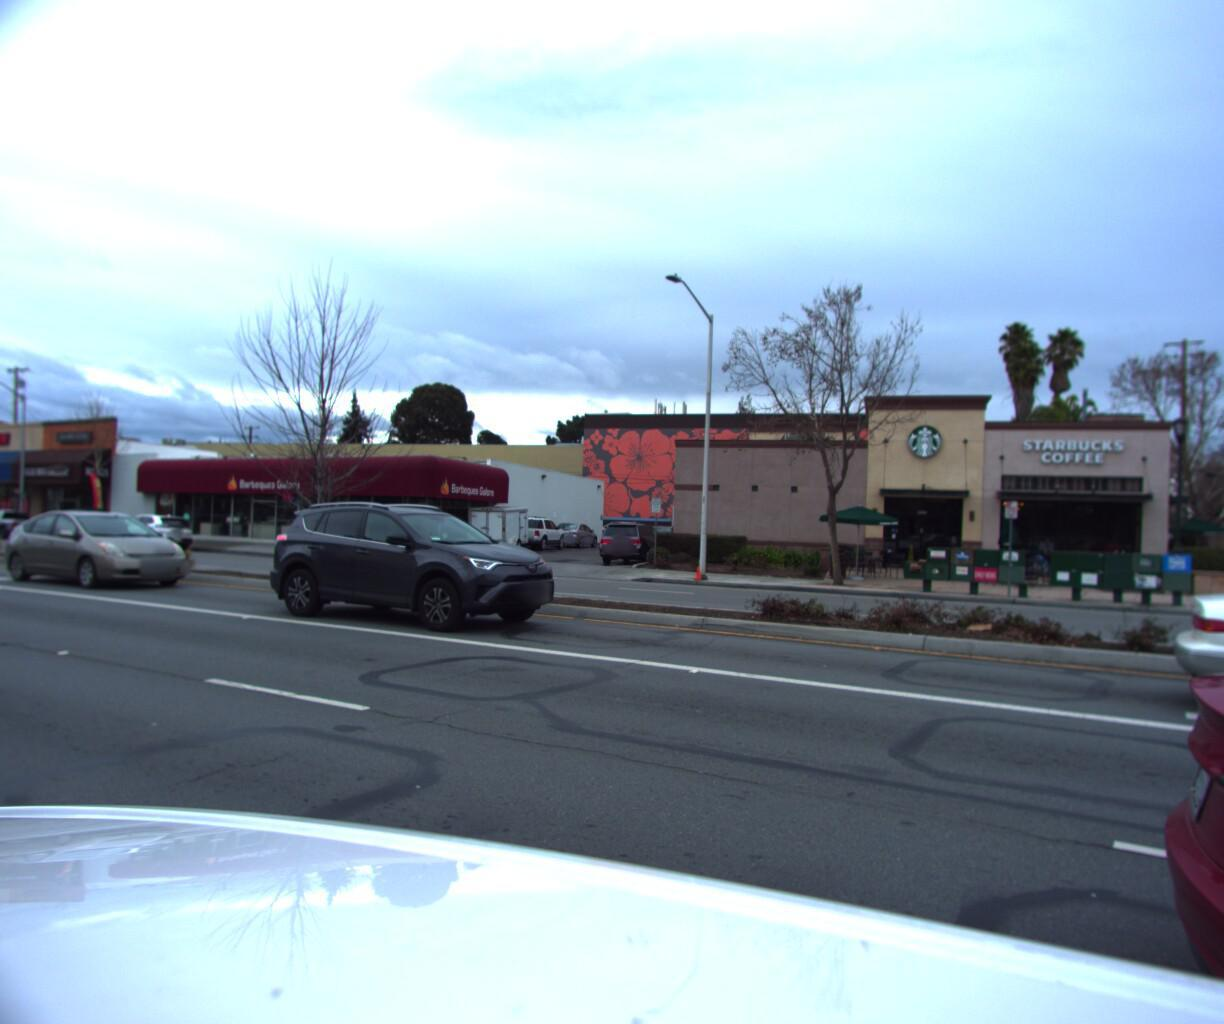car: (250, 499, 585, 643), (1156, 539, 1224, 824), (0, 510, 208, 596), (104, 511, 207, 556), (595, 517, 667, 571), (0, 509, 54, 546)
other_vehicle: (462, 500, 539, 556)
